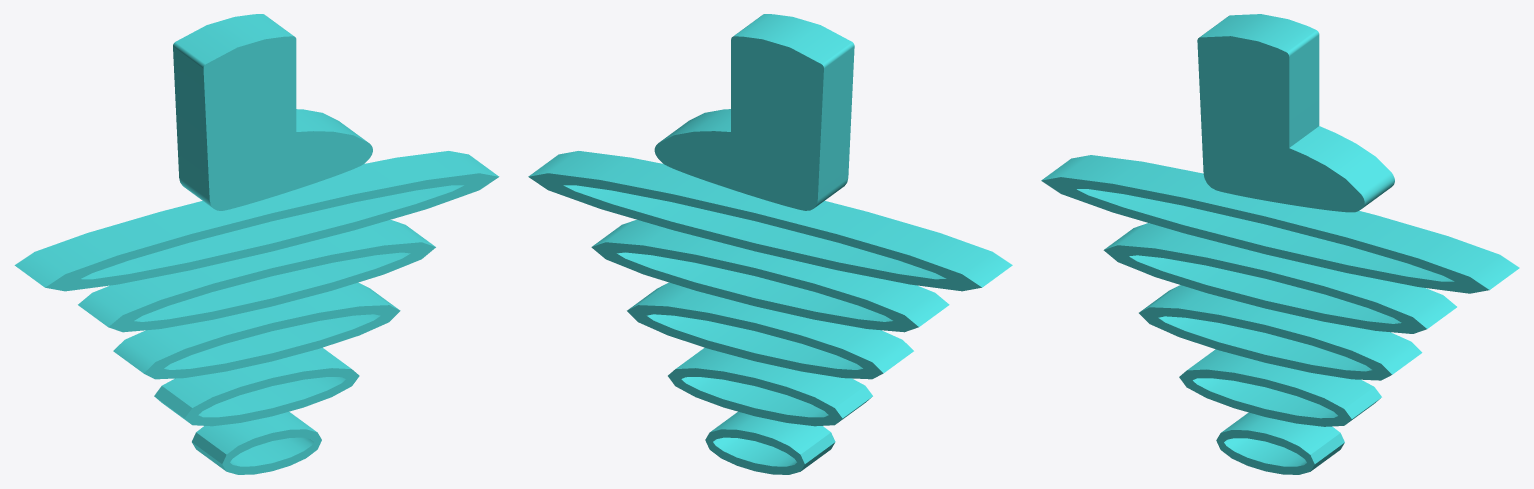
Rendered from DJumpPowerup.fbx.
The picture shows the model from 3 angles, left to right: view 1: azimuth 30°, elevation 25°; view 2: azimuth 150°, elevation 25°; view 3: azimuth 330°, elevation 25°; orthographic projection.
Parts seen in each view (by area): view 1: DoubleJumpPowerup; view 2: DoubleJumpPowerup; view 3: DoubleJumpPowerup.
Boxes of the visible parts, x1,y1,x2,y2 form: DoubleJumpPowerup: (14,14,499,474); DoubleJumpPowerup: (528,14,1012,474); DoubleJumpPowerup: (1041,14,1519,474).
Bounding box in the file's own units: 8.57 × 7.82 × 1.
